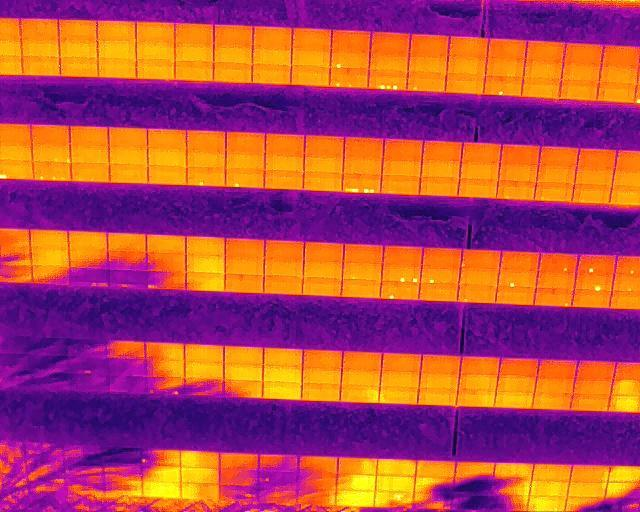Cell: (484, 76, 522, 96), (407, 73, 446, 92), (187, 167, 225, 186), (577, 255, 615, 274), (225, 169, 264, 187), (458, 284, 496, 302), (535, 289, 573, 307), (331, 50, 369, 68), (539, 253, 577, 271), (380, 282, 419, 299), (498, 269, 537, 286), (575, 274, 613, 291), (462, 250, 500, 267), (421, 268, 459, 285), (343, 263, 382, 279)
Cell-Multi: (330, 68, 368, 87), (369, 71, 407, 89), (33, 162, 71, 180), (146, 377, 185, 394), (32, 144, 69, 161), (381, 266, 420, 282)
No-Anomaly: (20, 18, 59, 41), (305, 136, 344, 158), (293, 29, 332, 50), (265, 134, 304, 155), (344, 138, 383, 159), (332, 31, 371, 52), (384, 246, 422, 267), (96, 21, 135, 41), (422, 141, 461, 161), (539, 147, 578, 167), (446, 74, 485, 94), (449, 37, 488, 57), (22, 55, 61, 75), (562, 61, 601, 81), (291, 65, 330, 85), (252, 64, 291, 84), (599, 63, 638, 83), (253, 27, 291, 47), (462, 142, 500, 162), (371, 32, 409, 52), (560, 80, 598, 100), (303, 349, 343, 368), (215, 26, 253, 46), (569, 464, 611, 482), (31, 124, 70, 143), (187, 131, 226, 150), (108, 128, 147, 147), (501, 145, 540, 164), (175, 24, 214, 43), (597, 83, 636, 102), (226, 132, 265, 151), (71, 163, 110, 182), (265, 170, 304, 189), (69, 231, 108, 250), (420, 177, 459, 196), (572, 184, 611, 203), (497, 180, 536, 199), (370, 53, 409, 72), (109, 164, 148, 183), (422, 248, 461, 267), (148, 165, 187, 184), (535, 182, 572, 202), (488, 38, 525, 58), (384, 140, 422, 159), (411, 35, 449, 54), (59, 20, 97, 39), (522, 78, 560, 97), (136, 41, 174, 60), (578, 148, 616, 167), (59, 39, 97, 58), (60, 57, 98, 76), (29, 230, 67, 249), (459, 179, 497, 198), (409, 54, 447, 73), (214, 63, 252, 82), (175, 61, 213, 80), (186, 273, 224, 292), (186, 254, 224, 273), (536, 359, 576, 377), (144, 342, 184, 360), (499, 358, 539, 376), (342, 352, 382, 370), (382, 352, 422, 370), (532, 462, 572, 480), (303, 172, 343, 190), (146, 235, 186, 253), (136, 23, 173, 42), (448, 56, 485, 75), (602, 46, 639, 65), (70, 126, 109, 144), (147, 130, 186, 148), (184, 344, 223, 362), (224, 346, 263, 364), (263, 348, 302, 366), (340, 385, 379, 403), (263, 381, 302, 399), (421, 355, 460, 373), (460, 356, 499, 374), (175, 44, 214, 62), (575, 167, 614, 185), (187, 150, 226, 168), (20, 39, 59, 57), (526, 41, 565, 59), (98, 59, 137, 77), (225, 238, 264, 256), (486, 58, 525, 76), (524, 60, 563, 78), (344, 245, 383, 263), (225, 257, 264, 275), (338, 457, 377, 475), (342, 280, 380, 298), (70, 145, 108, 163), (564, 44, 602, 62), (253, 47, 291, 65), (108, 233, 146, 251), (305, 243, 343, 261), (214, 46, 252, 64), (136, 60, 174, 78), (495, 463, 533, 481), (186, 237, 224, 255), (381, 176, 419, 194), (265, 240, 303, 258), (225, 275, 263, 293), (264, 276, 302, 294), (534, 377, 574, 394), (529, 481, 571, 497), (185, 362, 224, 379), (417, 388, 456, 405), (420, 373, 459, 390), (302, 278, 341, 295), (341, 369, 380, 386), (302, 383, 341, 400), (573, 378, 612, 395), (533, 392, 572, 409), (180, 451, 219, 468), (576, 360, 615, 377), (383, 159, 422, 176), (499, 164, 538, 181), (226, 152, 265, 169), (537, 165, 576, 182), (181, 467, 220, 484), (376, 459, 415, 476), (536, 272, 575, 289), (303, 261, 342, 278), (264, 258, 303, 275), (567, 481, 608, 497), (496, 287, 534, 304), (419, 284, 457, 301), (109, 147, 147, 164), (148, 148, 186, 165), (181, 483, 219, 500), (97, 42, 135, 59), (501, 251, 539, 268), (460, 268, 498, 285), (497, 376, 537, 392), (380, 371, 420, 387), (571, 394, 611, 410), (421, 160, 461, 176), (343, 158, 383, 174), (416, 461, 456, 477), (456, 390, 495, 406), (458, 374, 497, 390), (224, 364, 263, 380), (263, 366, 302, 382), (302, 368, 341, 384), (379, 387, 418, 403), (460, 162, 499, 178), (142, 481, 181, 497), (336, 474, 375, 490), (304, 156, 343, 172), (292, 49, 331, 65), (265, 155, 304, 171), (376, 476, 415, 492), (219, 453, 258, 469), (572, 292, 610, 308), (31, 249, 69, 265), (495, 391, 535, 406), (336, 490, 374, 505), (528, 497, 568, 511)
Shadowing: (68, 357, 109, 378), (67, 338, 110, 358), (26, 337, 68, 357), (27, 356, 69, 376), (454, 458, 496, 478), (107, 358, 146, 378), (492, 477, 531, 496), (147, 270, 186, 289), (108, 270, 147, 289), (454, 476, 495, 494), (107, 340, 145, 359), (66, 480, 104, 499), (224, 380, 263, 398), (102, 446, 141, 464), (147, 253, 186, 271), (69, 268, 108, 286), (140, 448, 181, 465), (259, 486, 297, 504), (109, 251, 147, 269), (69, 250, 107, 268), (32, 266, 70, 284), (65, 464, 105, 481), (146, 360, 185, 377), (185, 379, 224, 396), (109, 377, 148, 394), (141, 465, 180, 482), (219, 484, 258, 501), (299, 456, 338, 473), (259, 454, 298, 471), (298, 473, 337, 490), (105, 480, 143, 497), (374, 491, 414, 507), (491, 495, 531, 511), (415, 477, 455, 493), (104, 465, 142, 481), (219, 469, 259, 484), (259, 471, 298, 486), (298, 489, 336, 504), (565, 497, 605, 511)
Unclassified: (341, 173, 380, 192)
